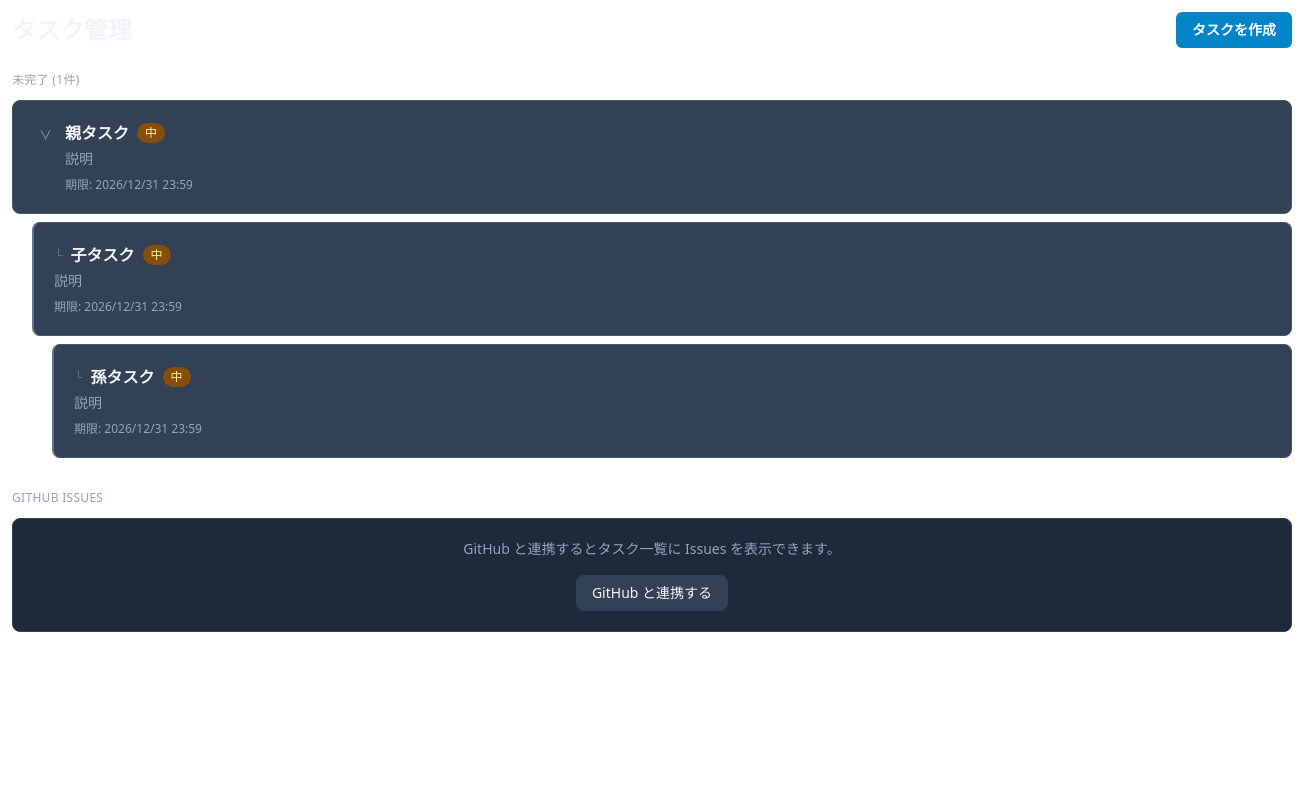
it: TaskListPage › 子タスクトグル表示機能 › 親タスクを折りたたむと孫タスクも非表示になる
The width and height of the screenshot is (1304, 812).
expect the heading "孫タスク" is shown: met, box [90,365,154,389]
# 親タスクのトグルボタンをクリック（最初の「子タスクの表示切り替え」ボタン）
Click the button named "子タスクの表示切り替え" at (45, 135), box [33,123,57,147]
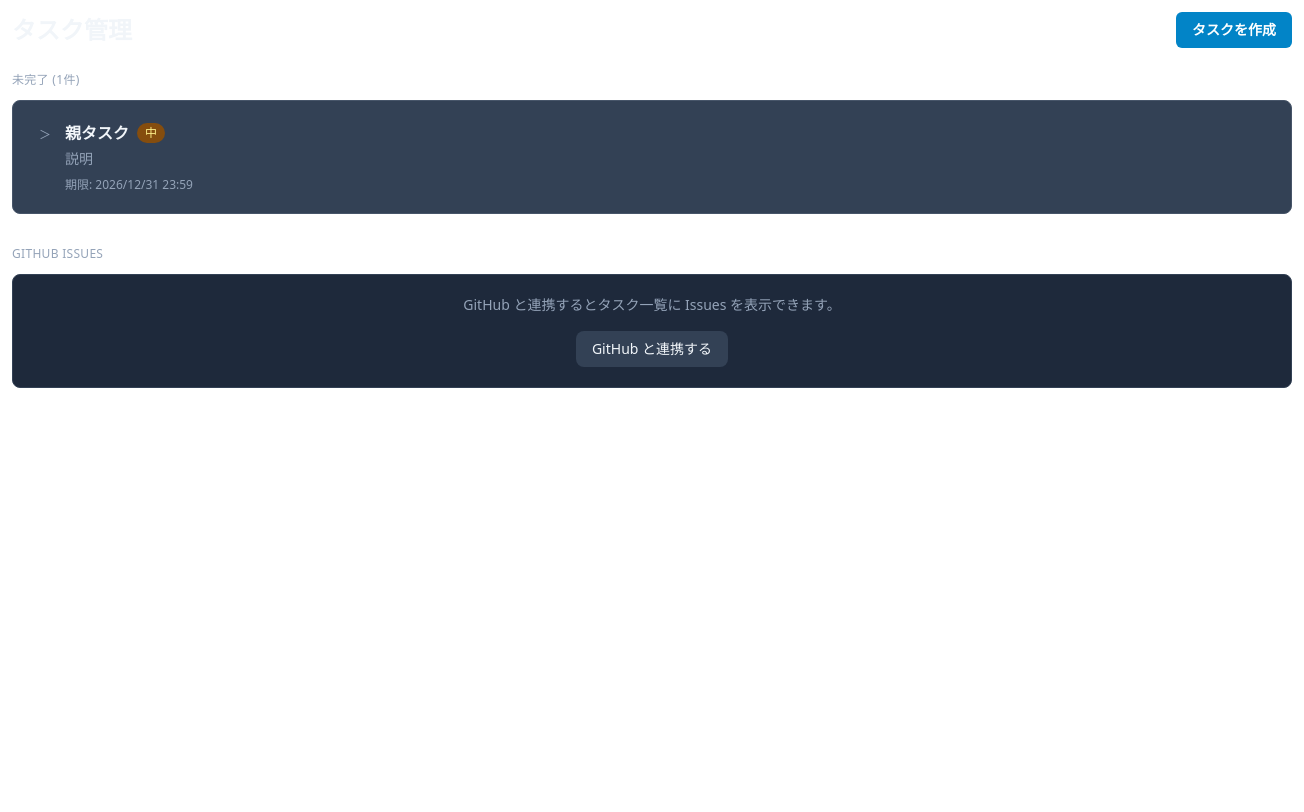
expect the heading "孫タスク" is gone: met
